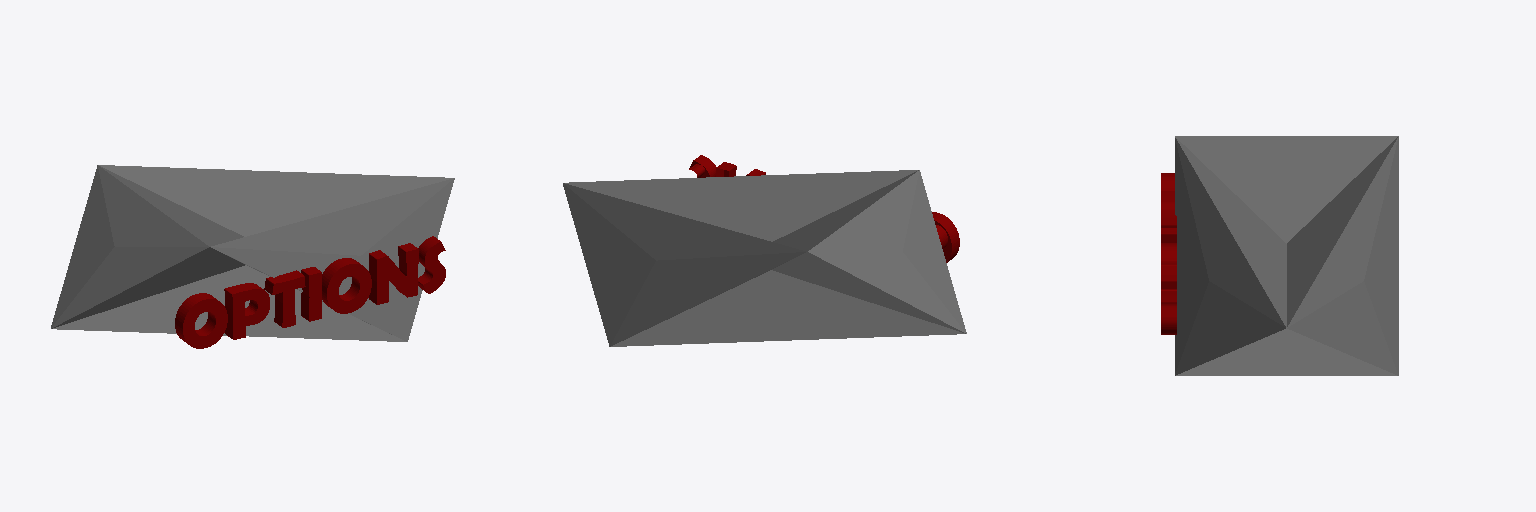
Rendered from options.obj.
3 renders of one model, left to right at view 1: azimuth 30°, elevation 25°; view 2: azimuth 150°, elevation 25°; view 3: azimuth 270°, elevation 25°, orthographic.
Parts seen in each view (by area): view 1: Hedra003, Text002; view 2: Hedra003, Text002; view 3: Hedra003, Text002.
Part boxes in pixels (x1,y1,x2,y2): Hedra003: (51,165,454,341); Text002: (175,236,445,348); Hedra003: (563,170,966,346); Text002: (689,155,959,262); Hedra003: (1175,136,1398,375); Text002: (1161,173,1176,334).
Bounding box in the file's own units: 157 × 53.21 × 79.78.